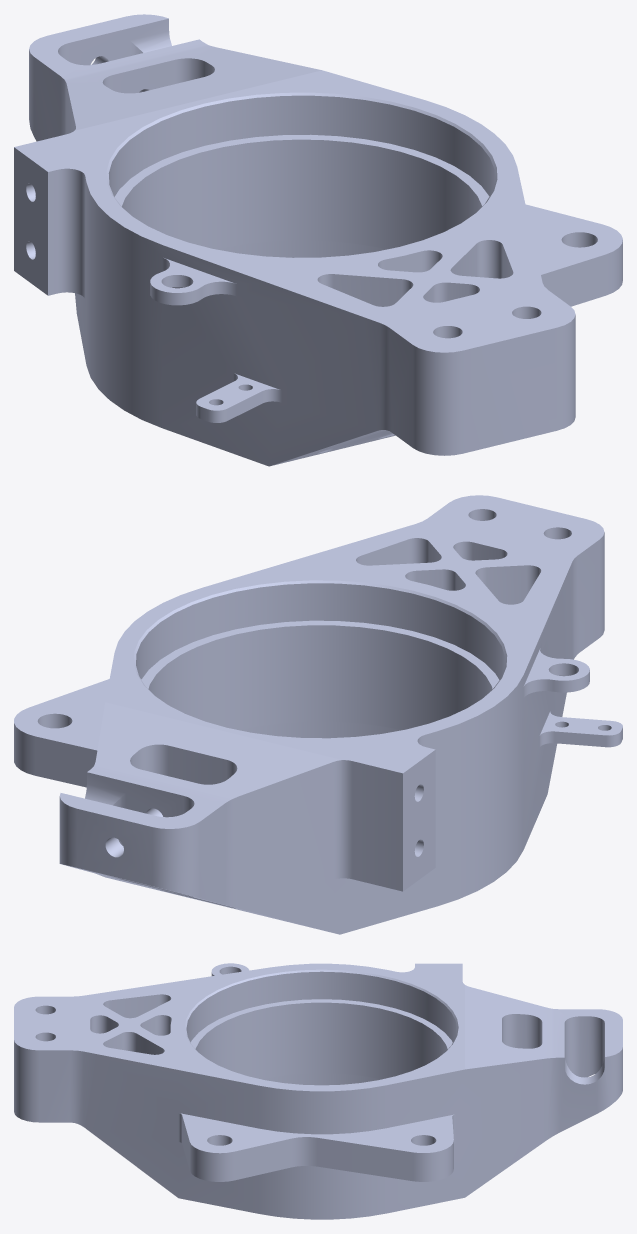
Rendered from Rear_Right_Corner_Wheel_Assembly__UA_26_Rear_Right_Upright_1.dae.
3 views of the same model, one above another, from view 1: azimuth 30°, elevation 25°; view 2: azimuth 150°, elevation 25°; view 3: azimuth 270°, elevation 25° (orthographic). The views are drawn at different scales.
Parts seen in each view (by area): view 1: node0; view 2: node0; view 3: node0.
Part boxes in pixels (x1,y1,x2,y2): node0: [14, 14, 622, 466]; node0: [14, 495, 622, 934]; node0: [14, 963, 622, 1219].
Bounding box in the file's own units: 0.1156 × 0.0444 × 0.1913.
